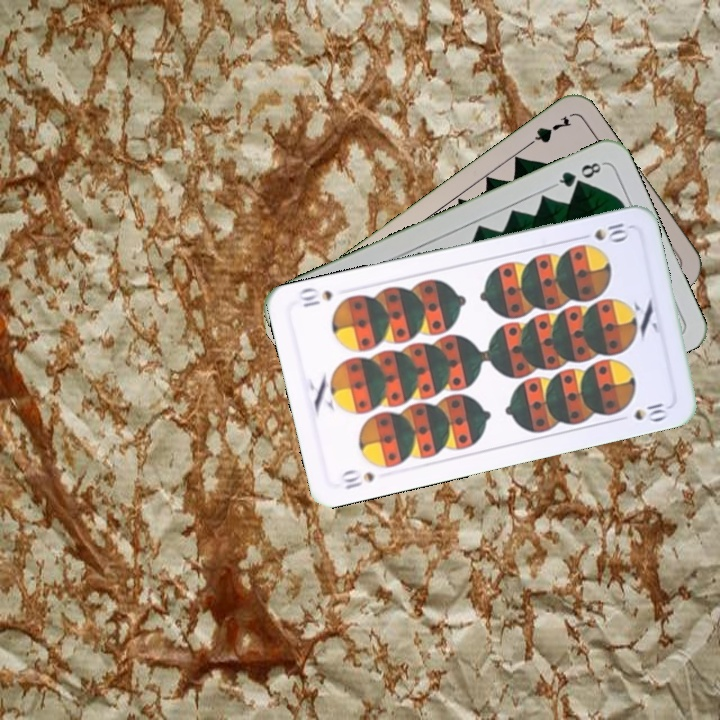G7: (520, 111, 575, 152)
G8: (550, 158, 606, 190)
S10: (574, 219, 632, 244), (337, 465, 377, 492)
